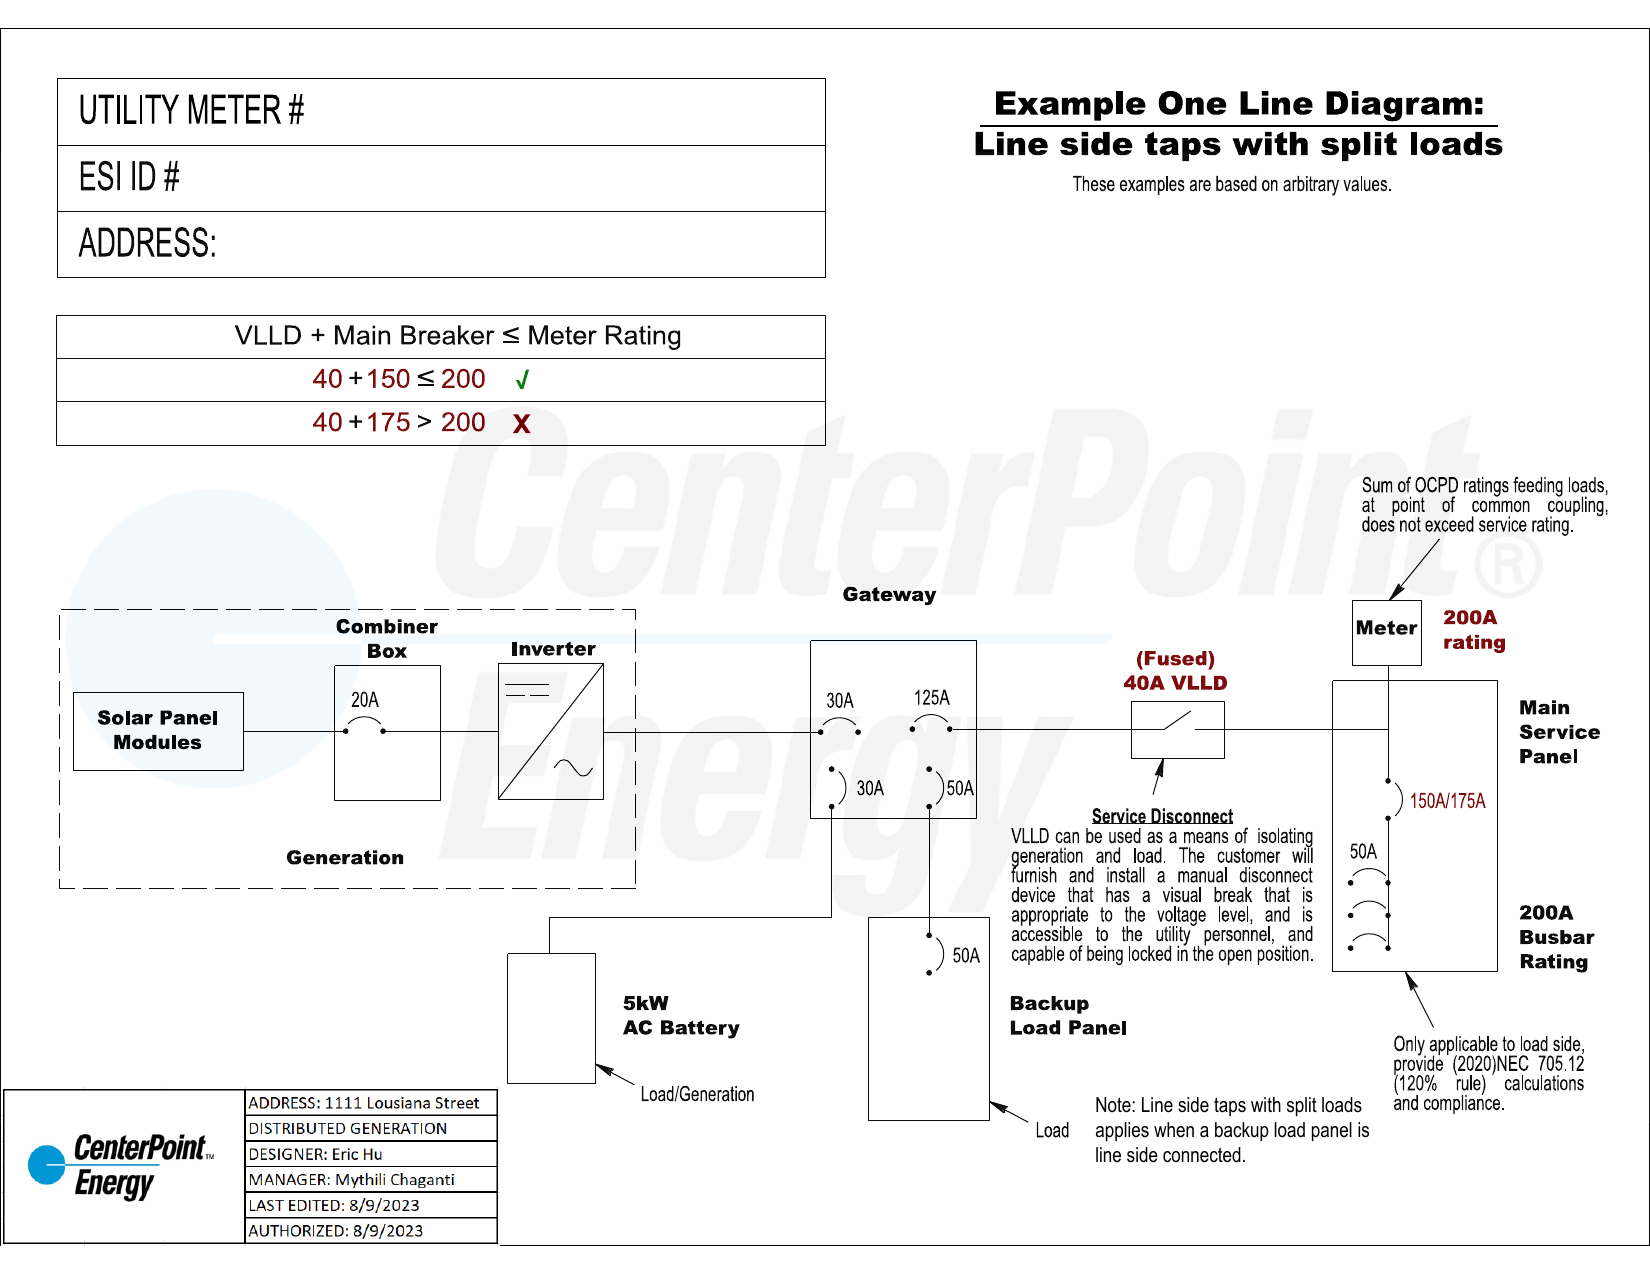circuit_breaker: (911, 924, 974, 995), (911, 750, 968, 821), (896, 695, 964, 746), (814, 751, 865, 814), (813, 699, 871, 751), (1375, 759, 1414, 829), (1341, 858, 1402, 888), (1341, 932, 1408, 959), (340, 710, 388, 742), (1339, 895, 1396, 920)
switch: (1134, 707, 1221, 745)
